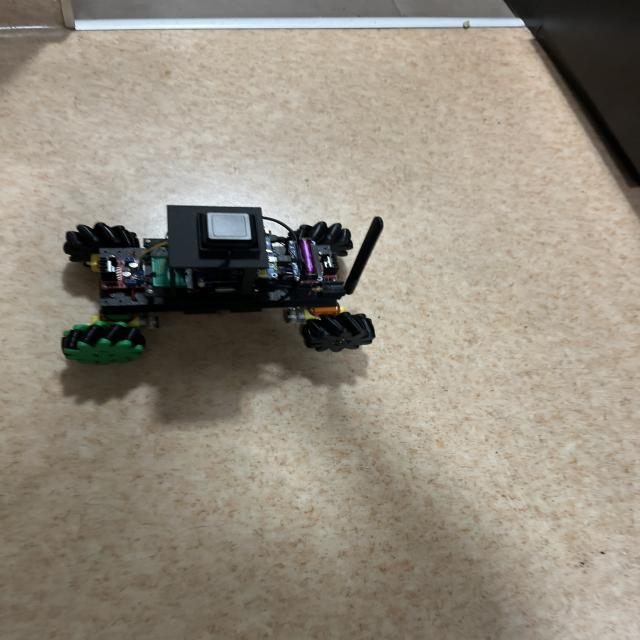robot: (61, 205, 384, 364)
